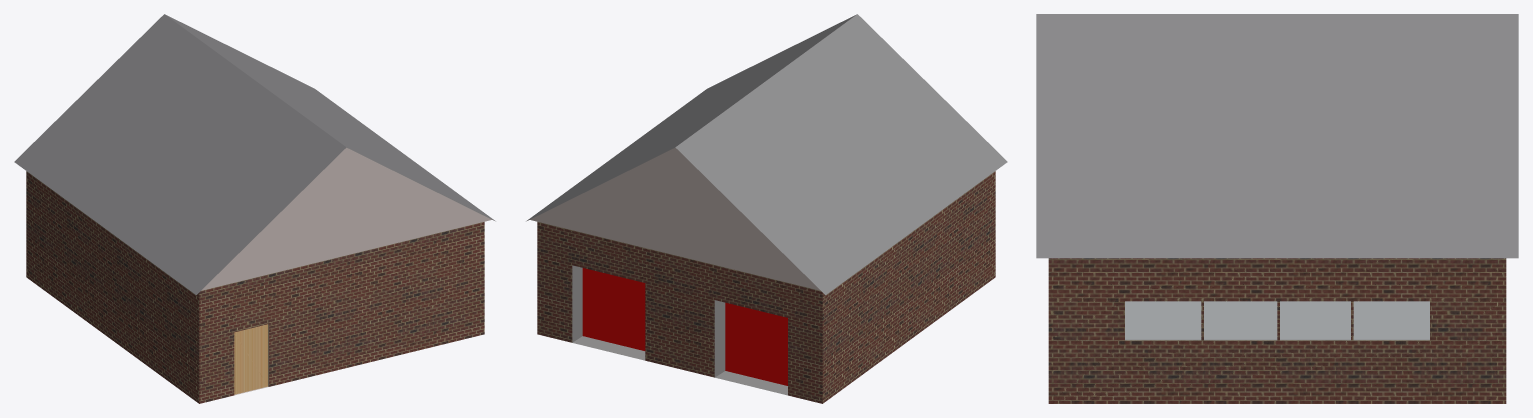
Rendered from warehouse.fbx.
The picture shows the model from 3 angles, left to right: view 1: azimuth 30°, elevation 25°; view 2: azimuth 150°, elevation 25°; view 3: azimuth 270°, elevation 25°; orthographic projection. The views are drawn at different scales.
Visible parts, largest first — view 1: Plane; view 2: Plane; view 3: Plane.
Boxes of the visible parts, bbox=[...] form: Plane: bbox=[14, 14, 495, 403]; Plane: bbox=[526, 14, 1007, 403]; Plane: bbox=[1036, 14, 1518, 403].
Size of the model in its own units: 2108 by 1509 by 2213.
